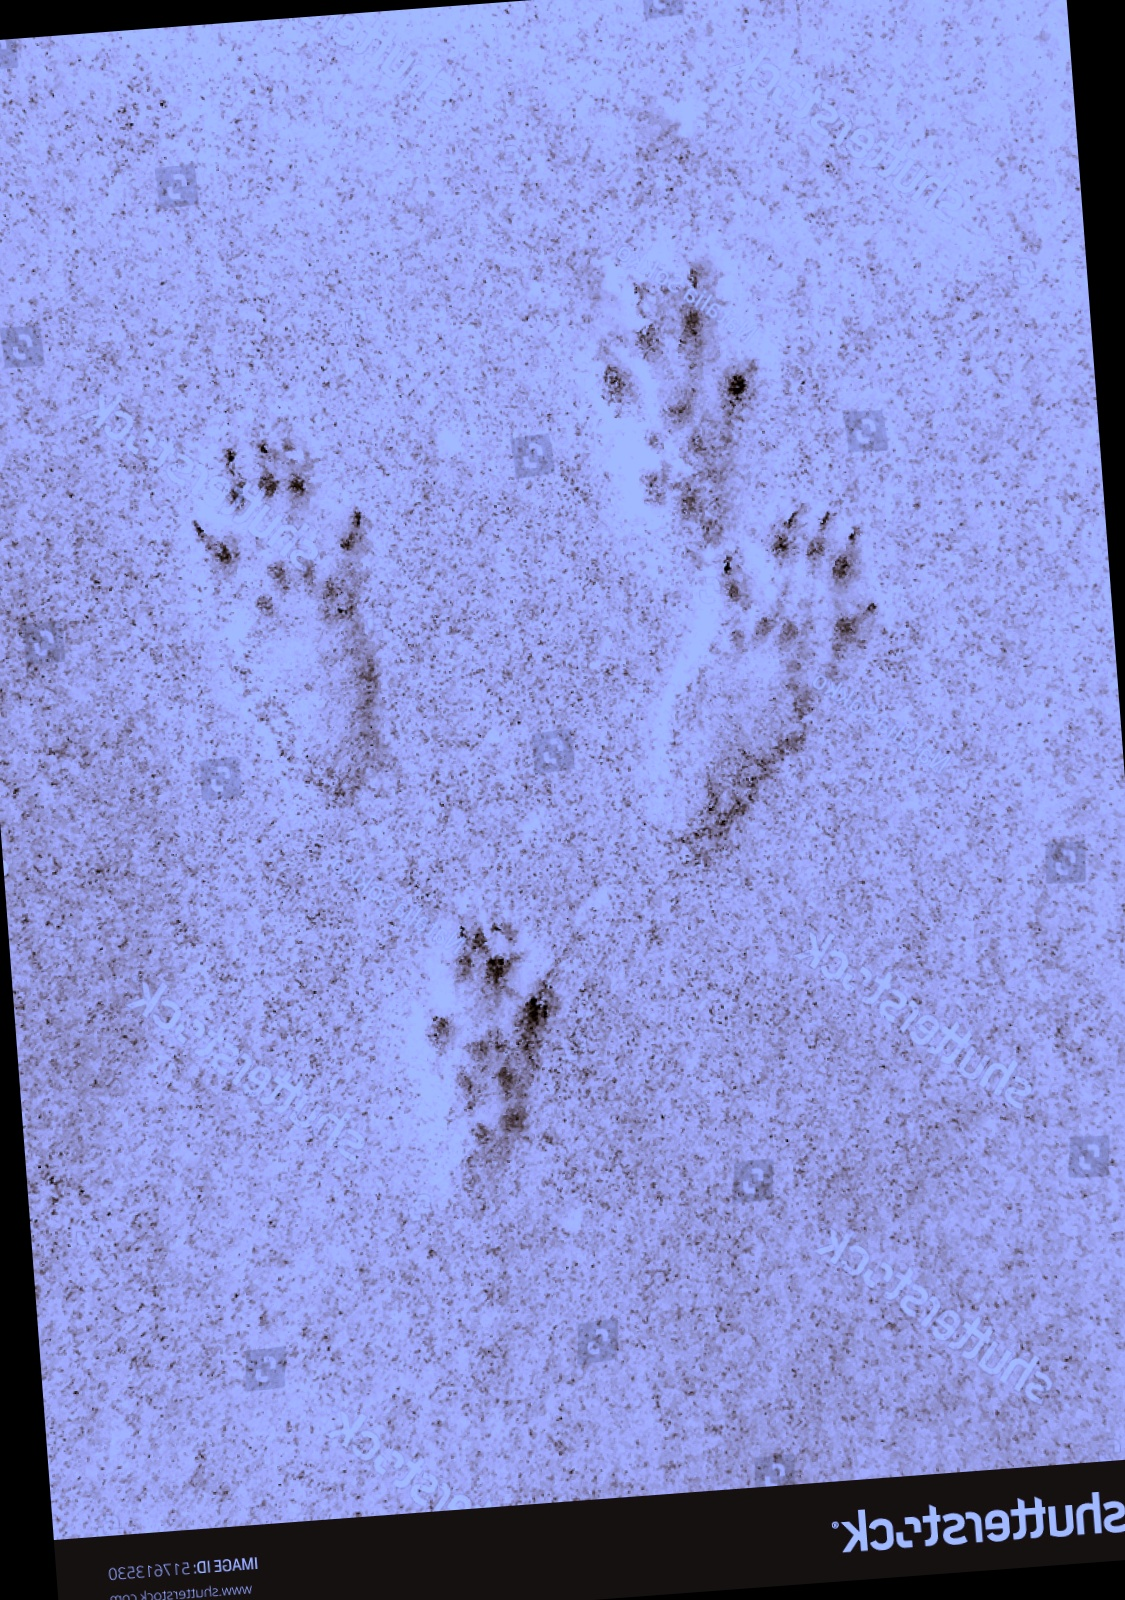ecureuil: (196, 209, 533, 916), (709, 370, 933, 819), (556, 886, 755, 1224)
